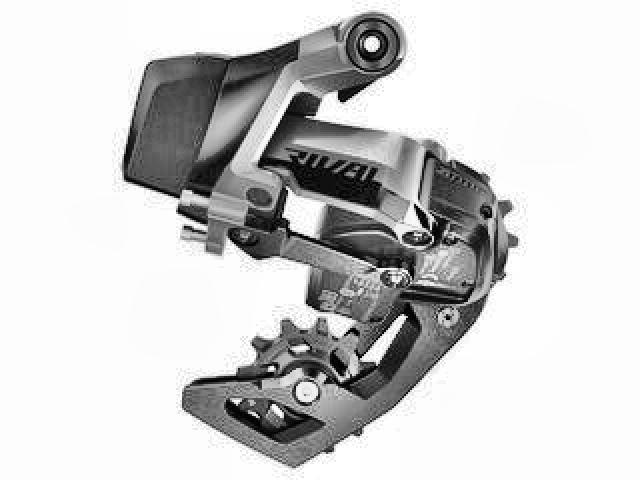rear_derailleur: (122, 9, 521, 472)
